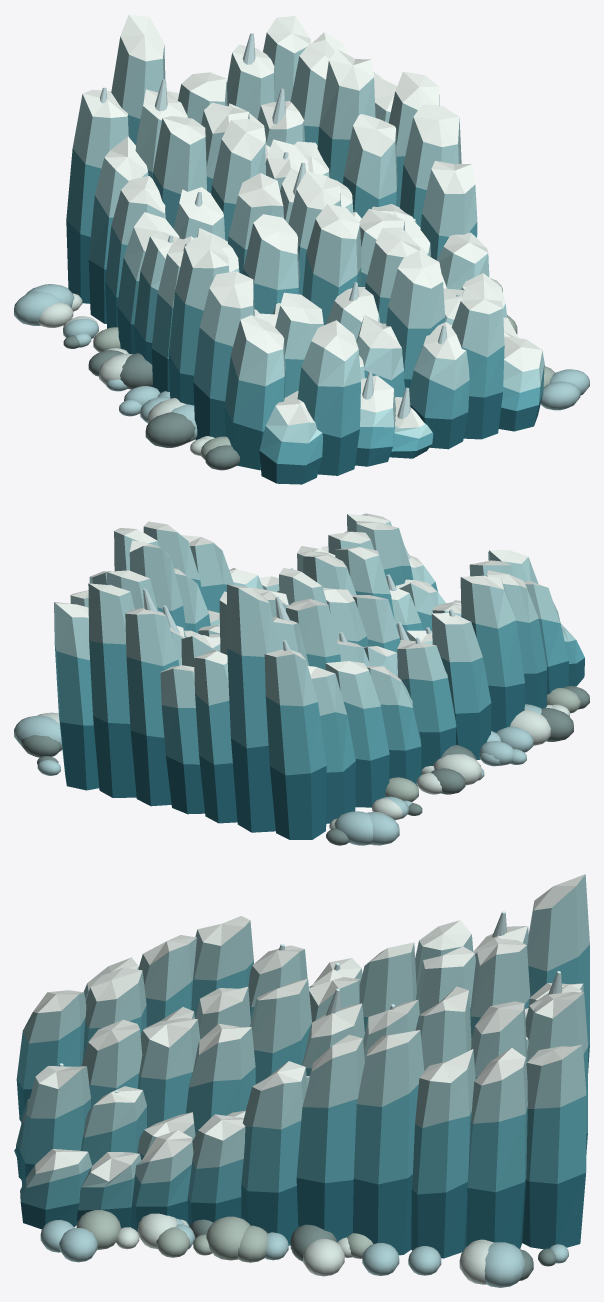
Rendered from glacier_ice.glb.
3 views of the same model, one above another, from view 1: azimuth 30°, elevation 25°; view 2: azimuth 150°, elevation 25°; view 3: azimuth 270°, elevation 25° (orthographic). The views are drawn at different scales.
Visible parts, largest first — view 1: GlacierIce; view 2: GlacierIce; view 3: GlacierIce.
Part boxes in pixels (box(x1,y1,x2,y2)): GlacierIce: box(14, 14, 589, 484); GlacierIce: box(14, 513, 589, 845); GlacierIce: box(14, 874, 589, 1287).
Size of the model in its own units: 0.9458 by 0.5367 by 1.
